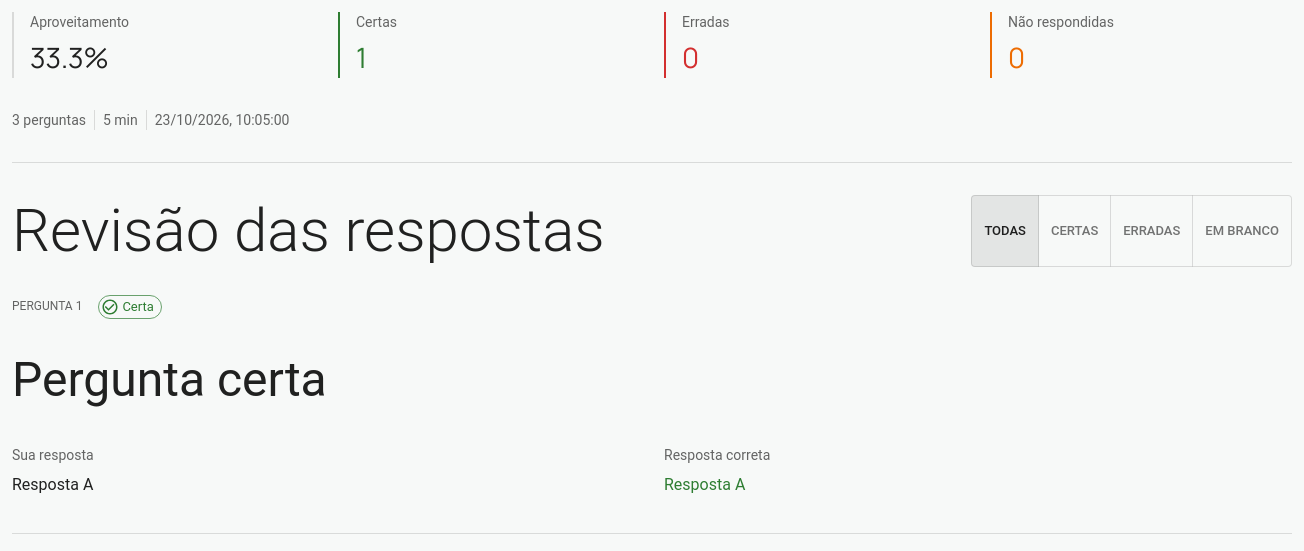
exam result › displays an empty state when the selected filter has no matches
Click the button "Erradas" at coordinates (1152, 231), box [1110,195,1193,267]
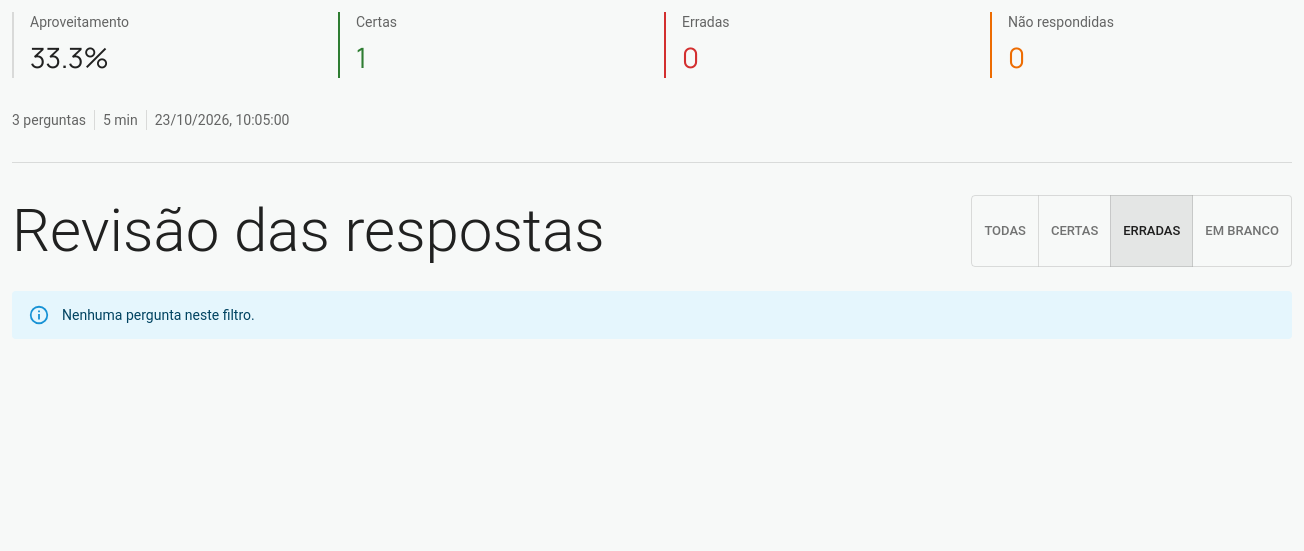
Now the text "Nenhuma pergunta neste filtro." is shown, box [62,307,255,323]
